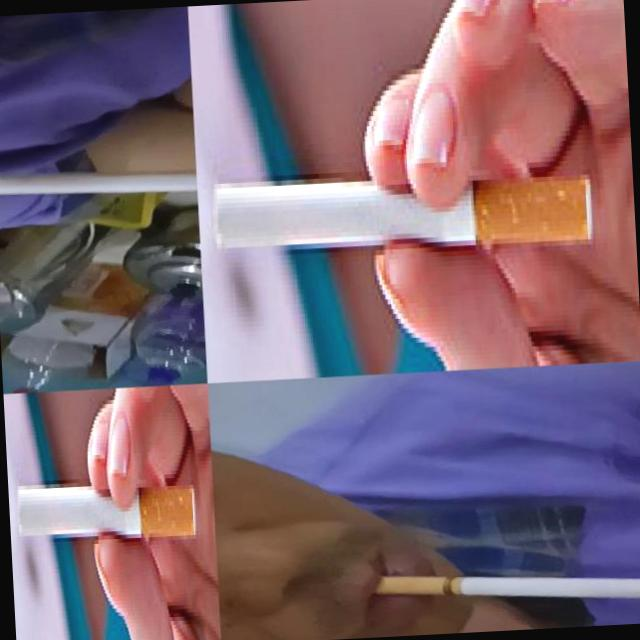smoke: (210, 163, 594, 264), (374, 561, 640, 616), (14, 473, 196, 540), (0, 156, 197, 206)
